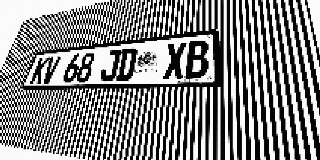6: (61, 53, 83, 83)
8: (75, 52, 96, 83)
B: (185, 40, 209, 79)
D: (115, 47, 138, 81)
J: (99, 49, 121, 82)
K: (29, 57, 50, 84)
V: (40, 56, 61, 84)
X: (163, 42, 187, 79)
